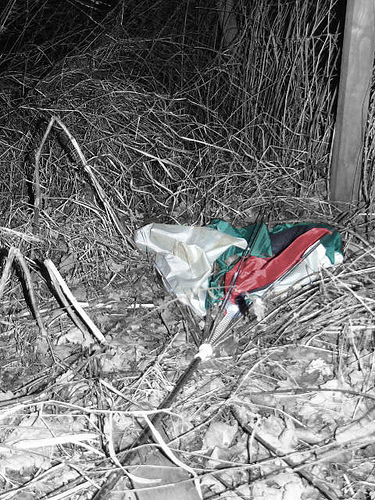litter: (134, 216, 346, 362)
